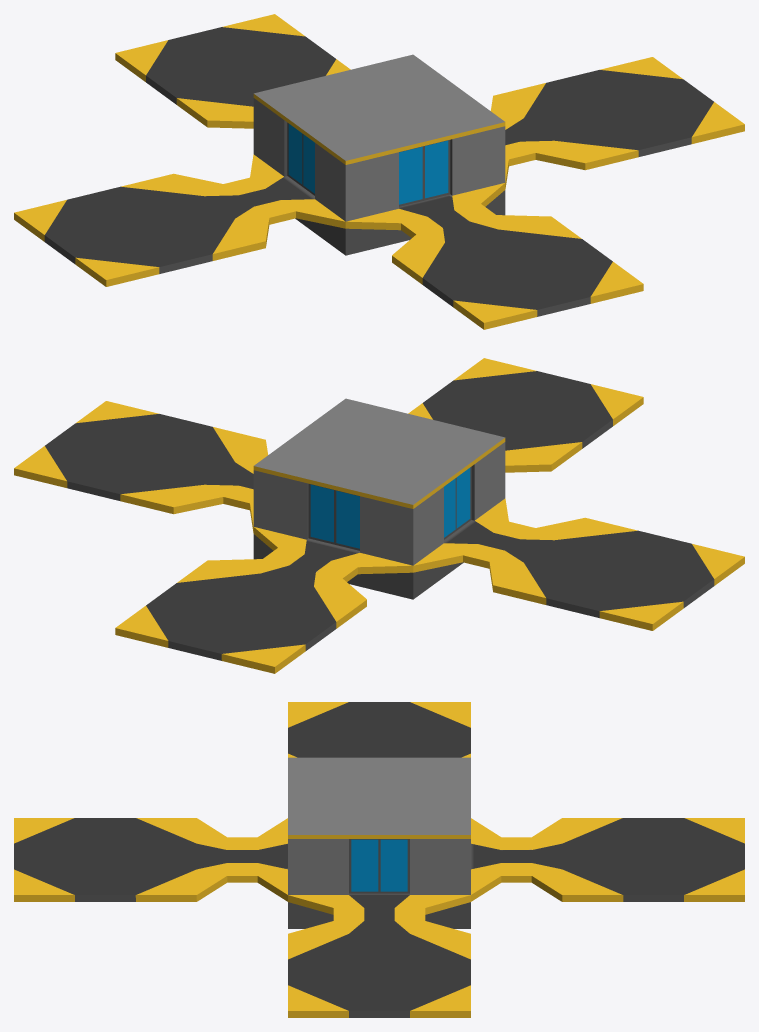
The model's file is Roof2.glb.
3 renders of one model, top to bottom at view 1: azimuth 30°, elevation 25°; view 2: azimuth 150°, elevation 25°; view 3: azimuth 270°, elevation 25°, orthographic.
Visible parts, largest first — view 1: Cube; view 2: Cube; view 3: Cube.
Part boxes in pixels (<box>): Cube: <box>14,14,744,329</box>; Cube: <box>14,358,744,673</box>; Cube: <box>14,702,744,1017</box>.
Bounding box in the file's own units: 64 × 9.07 × 64.
Materials: 2 (2 with a texture image).
